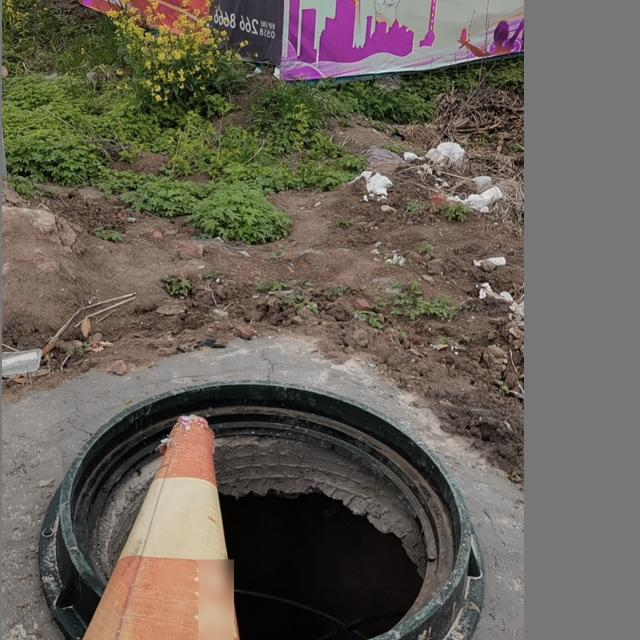lose: (39, 378, 481, 640)
